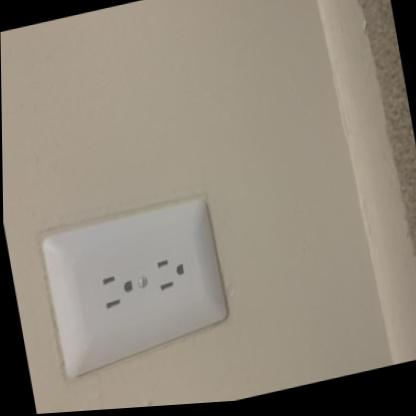OUTLET: (39, 192, 233, 382)
